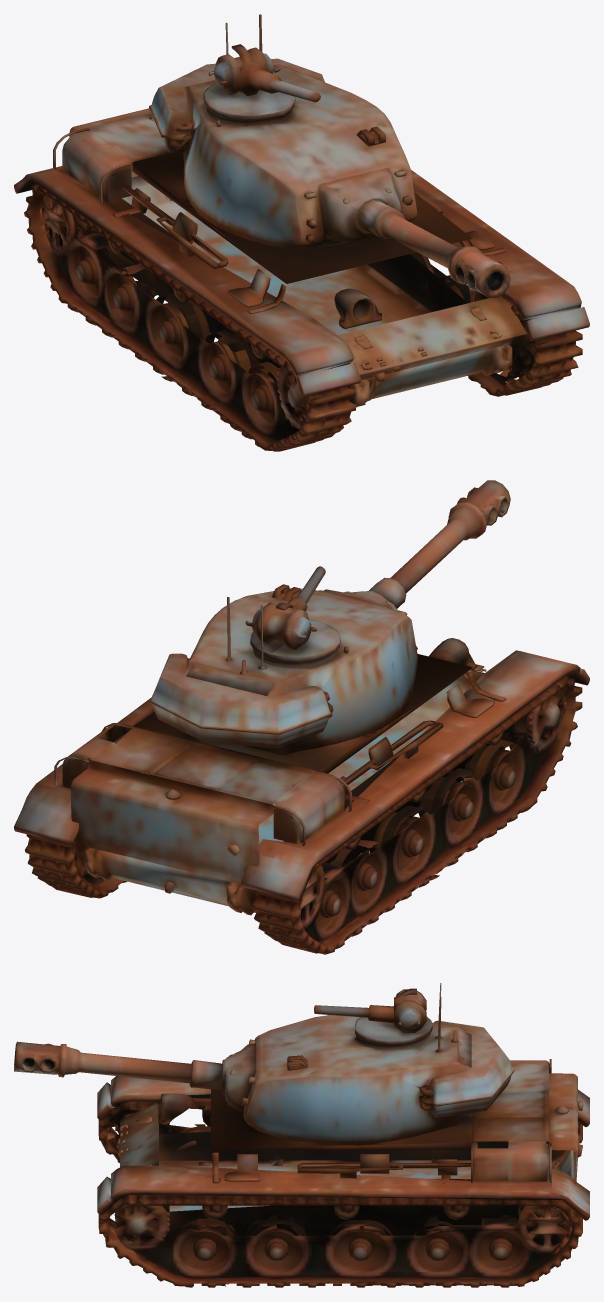
Rendered from rusty_tank_07f4bc3d_v3.glb.
3 views of the same model, one above another, from view 1: azimuth 30°, elevation 25°; view 2: azimuth 150°, elevation 25°; view 3: azimuth 270°, elevation 25° (orthographic). The views are drawn at different scales.
Parts seen in each view (by area): view 1: material; view 2: material; view 3: material.
Boxes of the visible parts, left/top/right/bottom form: material: left=14, top=14, right=589, bottom=451; material: left=14, top=480, right=589, bottom=954; material: left=14, top=983, right=589, bottom=1287.
Size of the model in its own units: 0.9198 by 0.8871 by 1.9.
Materials: 1 (1 with a texture image).
